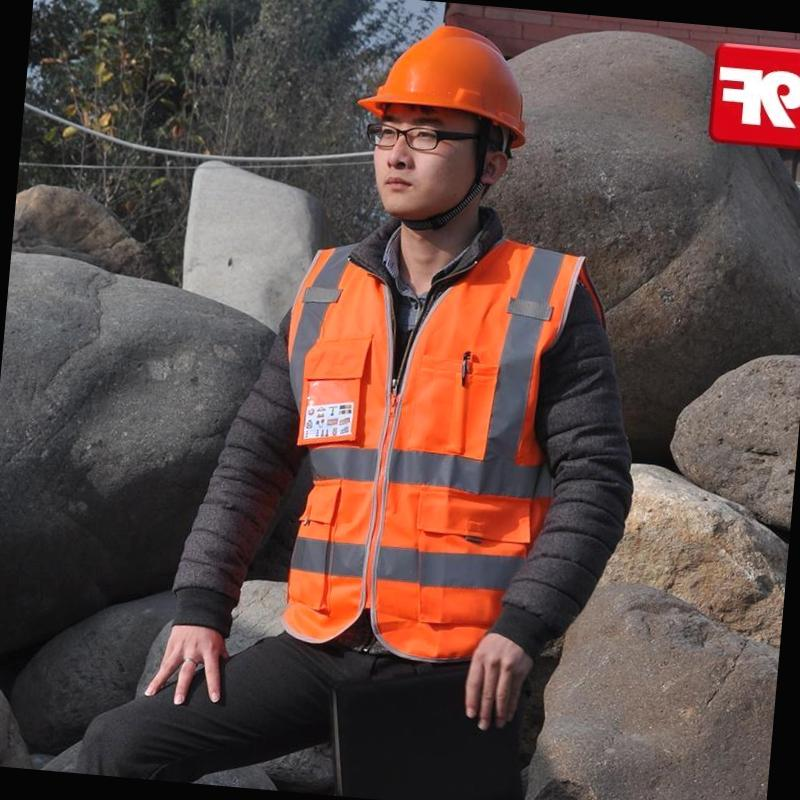helmet: (360, 16, 540, 134)
person: (243, 0, 656, 800)
